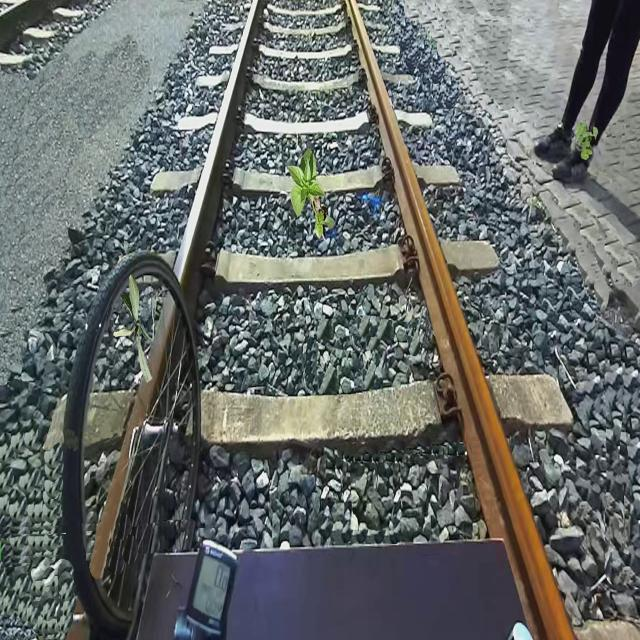Plant: (287, 147, 335, 242), (113, 274, 153, 384), (575, 120, 599, 161)
